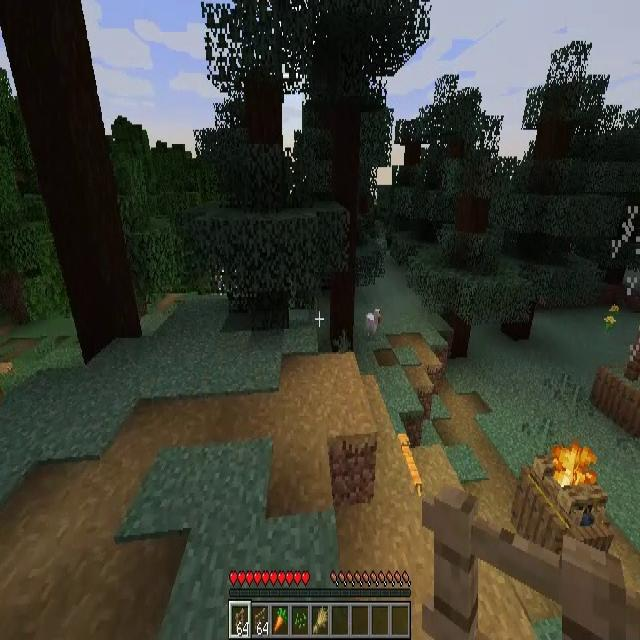duck: (364, 308, 380, 337)
flower: (603, 314, 617, 334), (609, 304, 619, 314)
